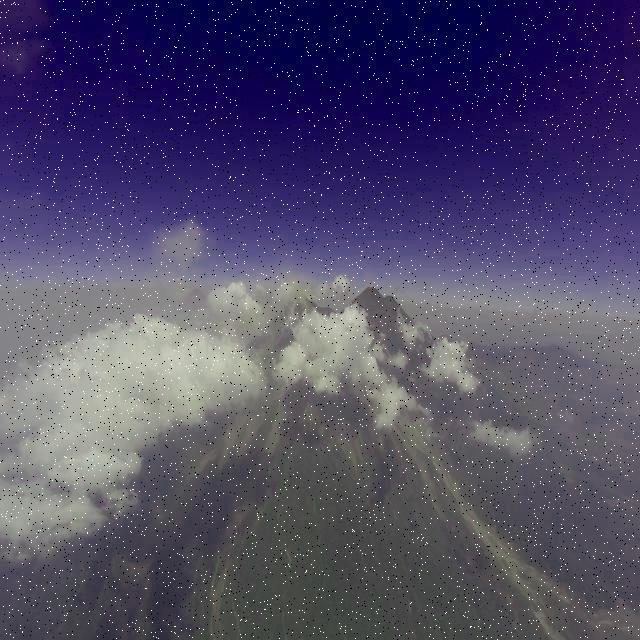Summit: (286, 292, 318, 310)
